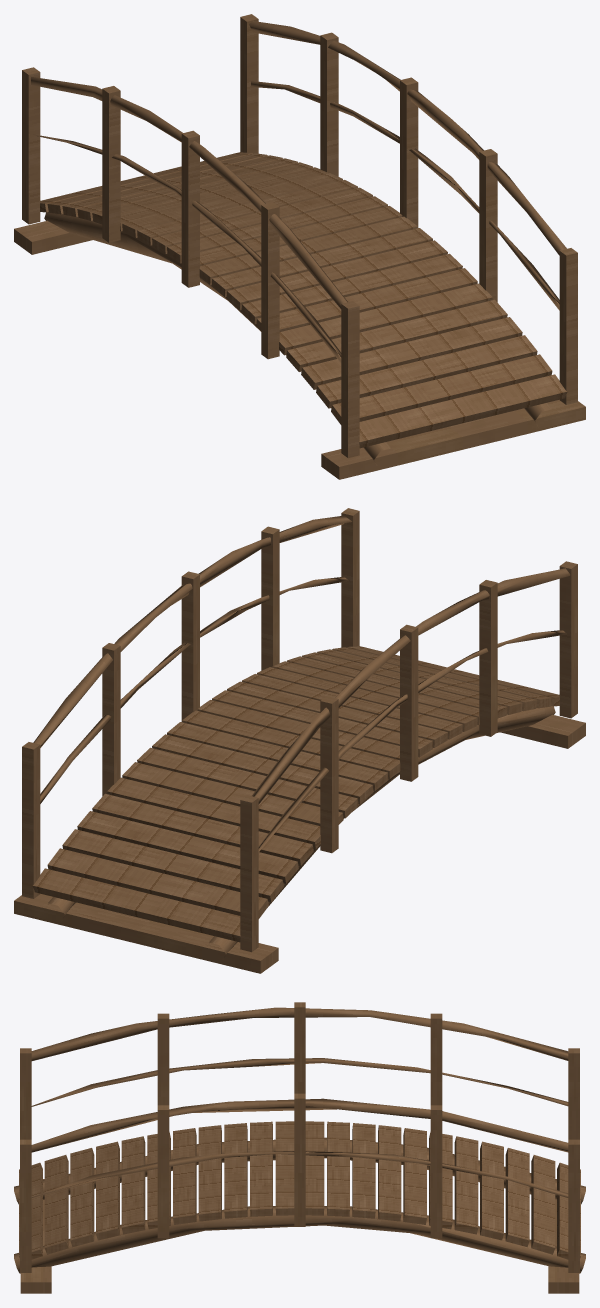
The model's file is bridge.lod2.glb.
3 views of the same model, one above another, from view 1: azimuth 30°, elevation 25°; view 2: azimuth 150°, elevation 25°; view 3: azimuth 270°, elevation 25° (orthographic). The views are drawn at different scales.
Parts seen in each view (by area): view 1: Bridge_oakPlanks, Bridge_oak; view 2: Bridge_oakPlanks, Bridge_oak; view 3: Bridge_oakPlanks, Bridge_oak.
Boxes of the visible parts, box(x1,y1,x2,y2) form: Bridge_oakPlanks: box(40, 152, 567, 448); Bridge_oak: box(14, 14, 585, 479); Bridge_oakPlanks: box(32, 646, 559, 942); Bridge_oak: box(14, 508, 585, 973); Bridge_oakPlanks: box(19, 1121, 580, 1259); Bridge_oak: box(14, 1002, 585, 1293).
Size of the model in its own units: 1.9 by 1.64 by 4.44.
2 materials, 2 textured.
